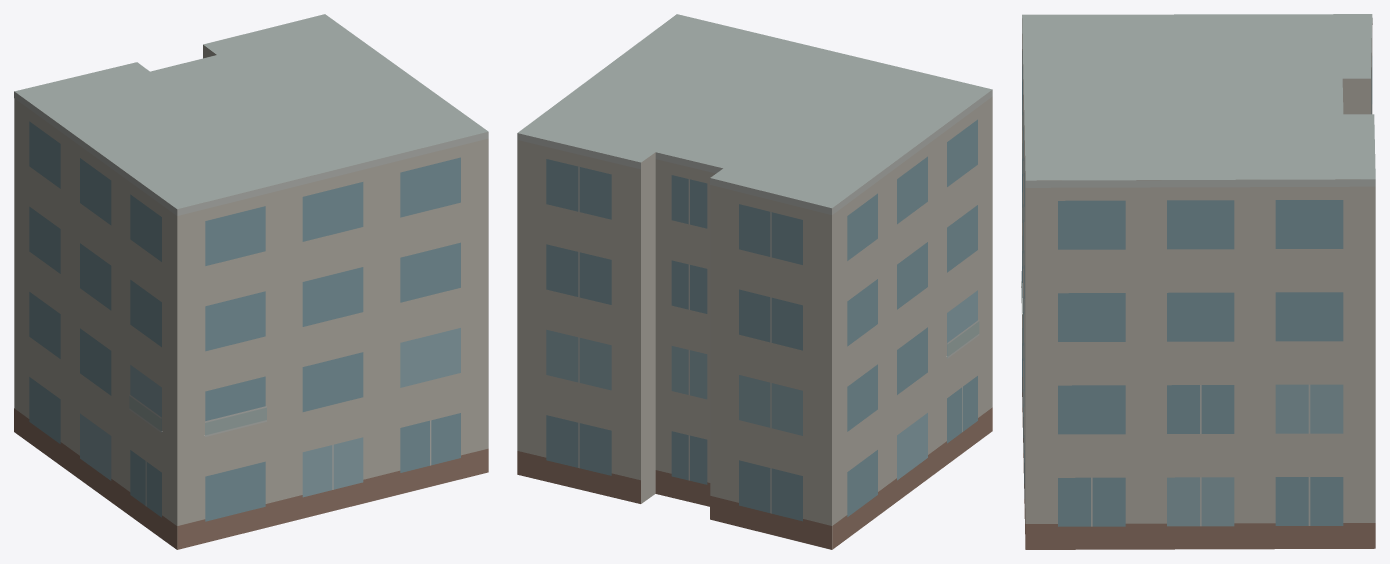
The model's file is survey-upis-32990907.glb.
3 views of the same model, side by side, from view 1: azimuth 30°, elevation 25°; view 2: azimuth 150°, elevation 25°; view 3: azimuth 270°, elevation 25° (orthographic). The views are drawn at different scales.
Parts seen in each view (by area): view 1: survey-upis-32990907.tmp; view 2: survey-upis-32990907.tmp; view 3: survey-upis-32990907.tmp.
Part boxes in pixels (bbox=[...]): survey-upis-32990907.tmp: bbox=[14, 14, 488, 549]; survey-upis-32990907.tmp: bbox=[517, 14, 992, 549]; survey-upis-32990907.tmp: bbox=[1021, 14, 1375, 549].
Size of the model in its own units: 11.75 by 12.15 by 10.58.
